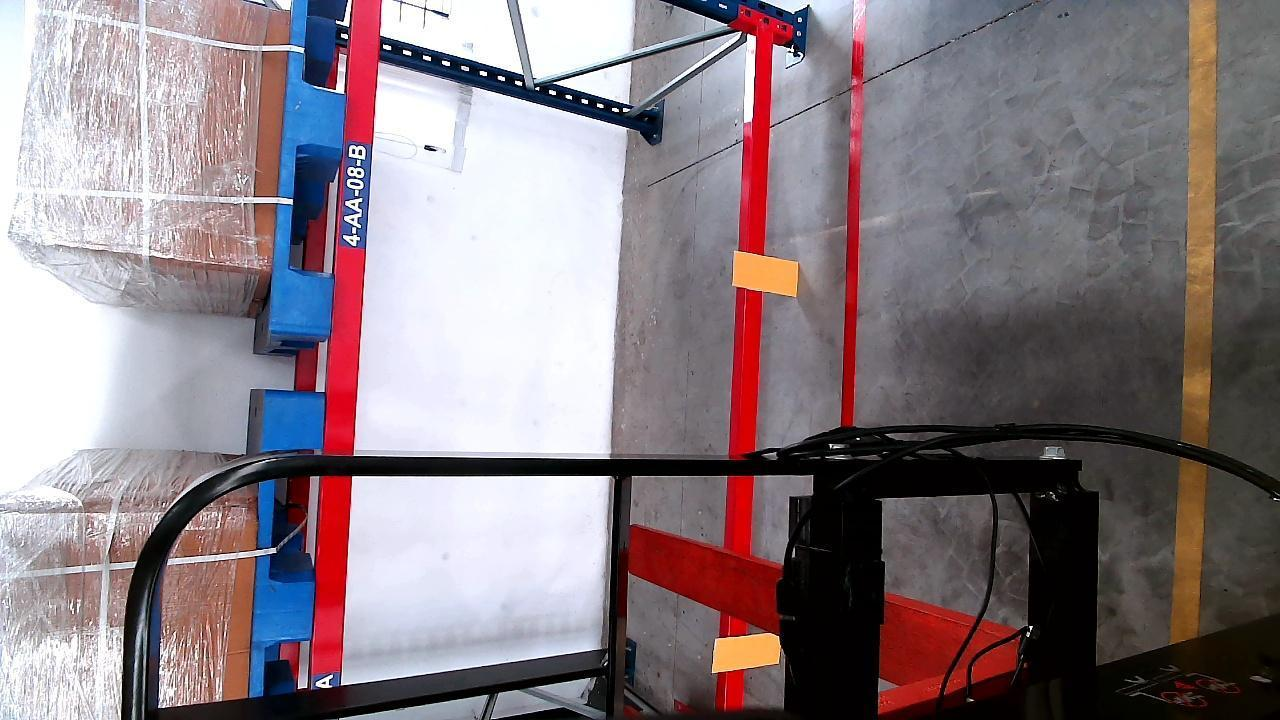h_rack: (310, 0, 382, 689), (720, 27, 774, 714)
orange_strip: (712, 628, 783, 673), (735, 252, 799, 294)
red_line: (842, 3, 866, 429)
small_pallet: (266, 0, 351, 341), (253, 404, 324, 690)
yellow_line: (1173, 0, 1222, 642)
